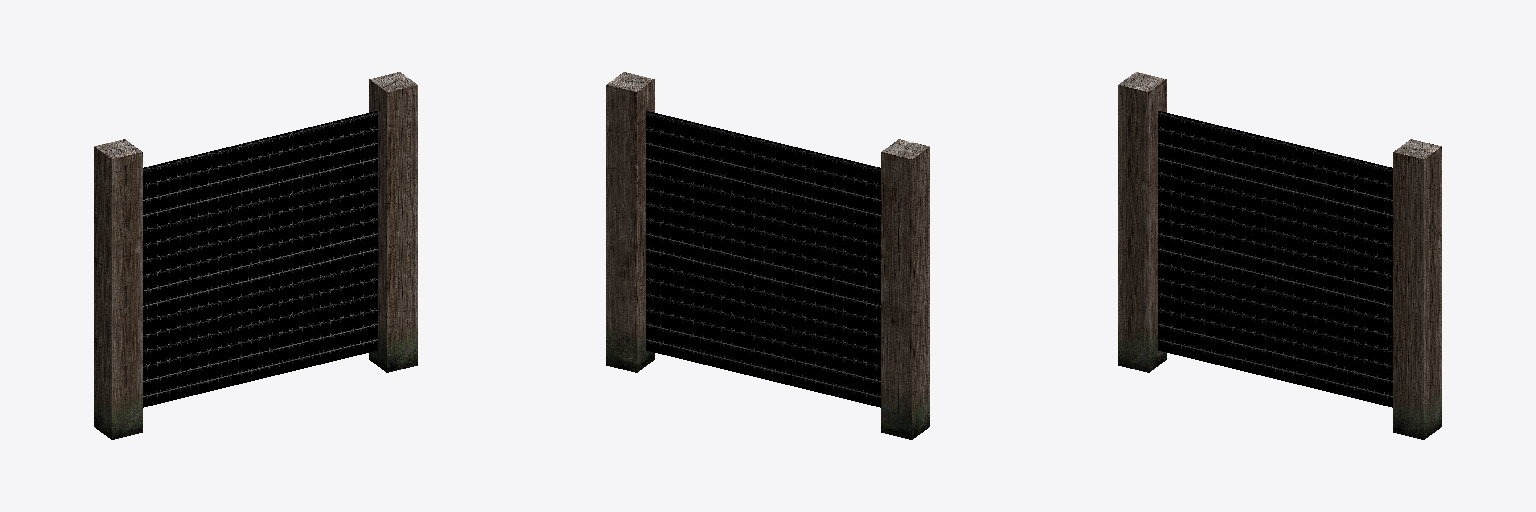
The picture shows the model from 3 angles: view 1: azimuth 30°, elevation 25°; view 2: azimuth 150°, elevation 25°; view 3: azimuth 330°, elevation 25°; orthographic projection.
Visible parts, largest first — view 1: Barbwire_fence; view 2: Barbwire_fence; view 3: Barbwire_fence.
Part boxes in pixels (x1,y1,x2,y2): Barbwire_fence: (94, 72, 417, 439); Barbwire_fence: (606, 72, 929, 439); Barbwire_fence: (1118, 72, 1441, 439).
Size of the model in its own units: 2000 by 1755 by 200.
1 materials, 1 textured.